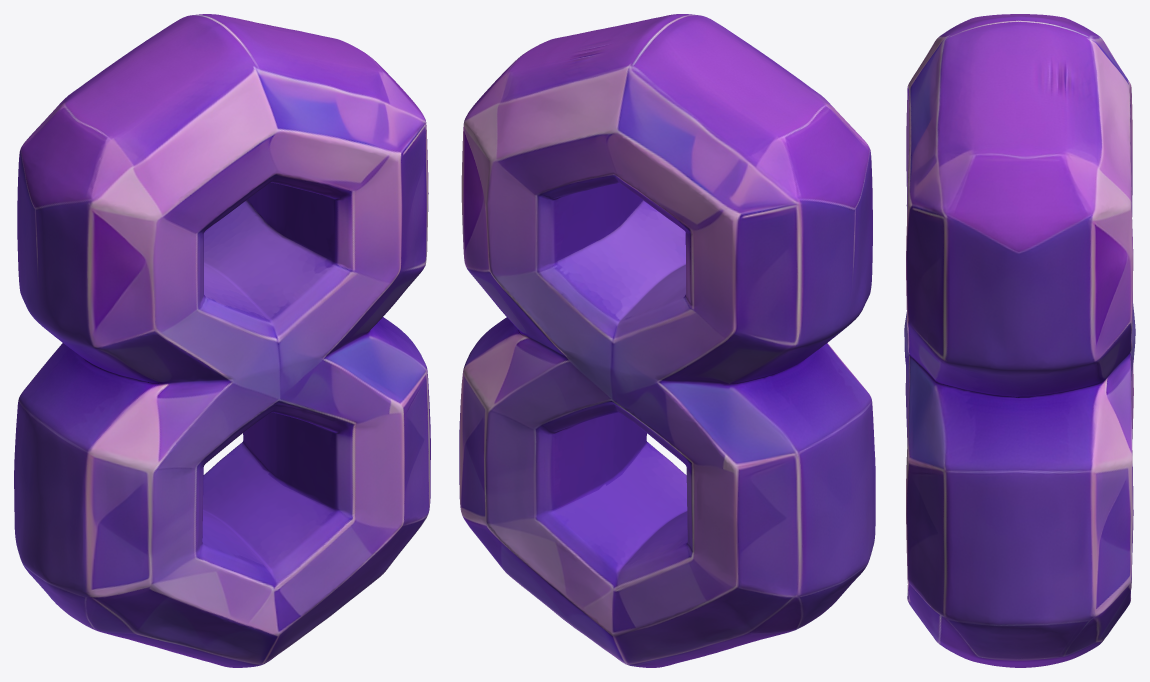
File: 8-jewel.glb
3 renders of one model, left to right at view 1: azimuth 30°, elevation 25°; view 2: azimuth 150°, elevation 25°; view 3: azimuth 270°, elevation 25°, orthographic.
Parts seen in each view (by area): view 1: demo_textured.obj; view 2: demo_textured.obj; view 3: demo_textured.obj.
Part boxes in pixels (bbox=[...]): demo_textured.obj: bbox=[14, 14, 430, 667]; demo_textured.obj: bbox=[459, 14, 875, 667]; demo_textured.obj: bbox=[904, 14, 1135, 667].
Bounding box in the file's own units: 1.25 × 1.98 × 0.6468.
Materials: 1 (1 with a texture image).
